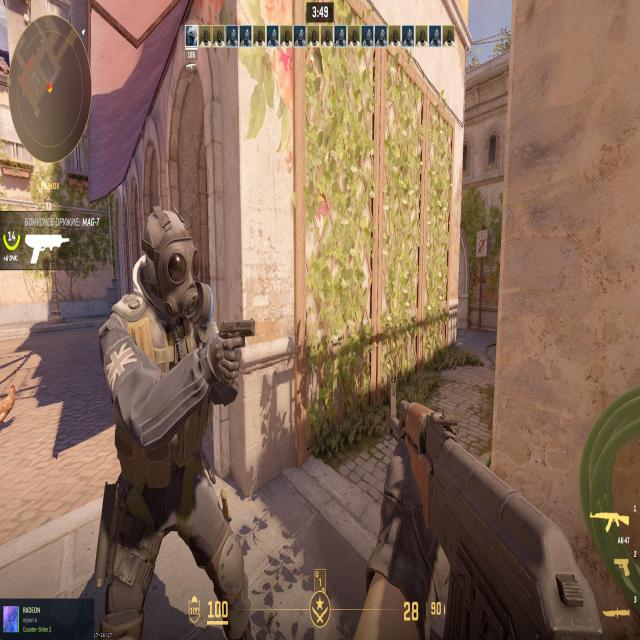CT: (142, 223, 208, 526)
CT_heat: (149, 242, 183, 301)
